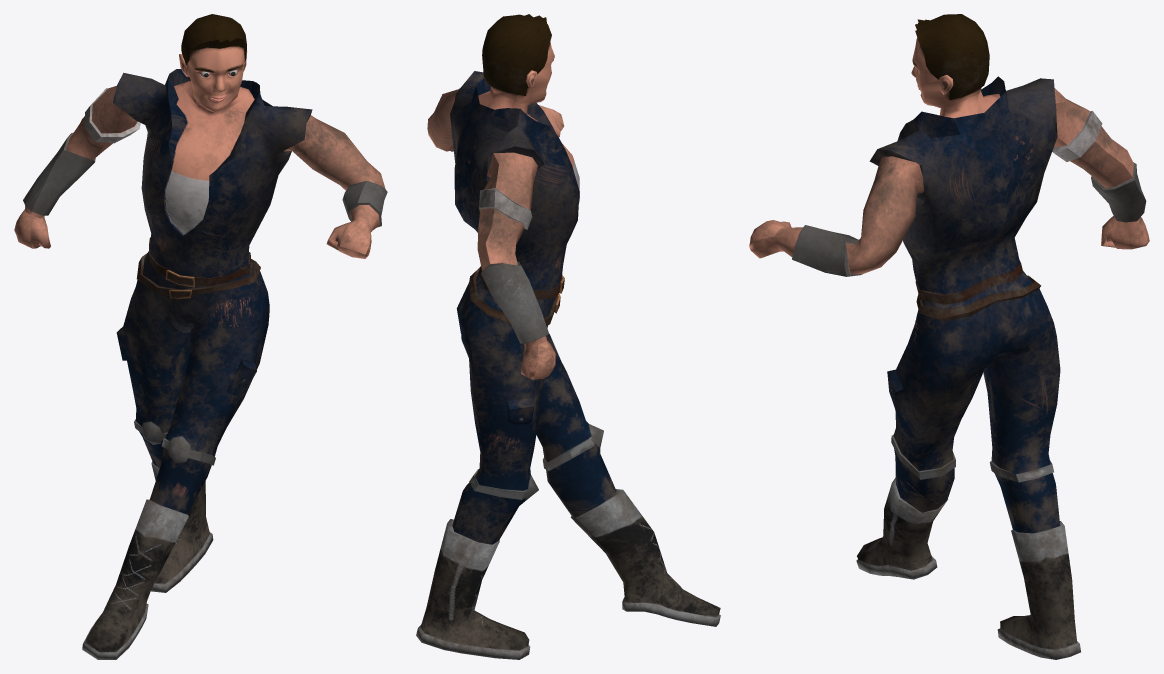
The model's file is Anim_ataque_f2_jugador.0037.obj.
The picture shows the model from 3 angles, left to right: view 1: azimuth 30°, elevation 25°; view 2: azimuth 150°, elevation 25°; view 3: azimuth 270°, elevation 25°; orthographic projection. The views are drawn at different scales.
Parts seen in each view (by area): view 1: polySurface1; view 2: polySurface1; view 3: polySurface1.
Part boxes in pixels (x1=…): polySurface1: x1=14, y1=14, x2=387, y2=659; polySurface1: x1=416, y1=14, x2=720, y2=659; polySurface1: x1=749, y1=14, x2=1149, y2=659.
Size of the model in its own units: 4.95 by 9.57 by 5.47.
